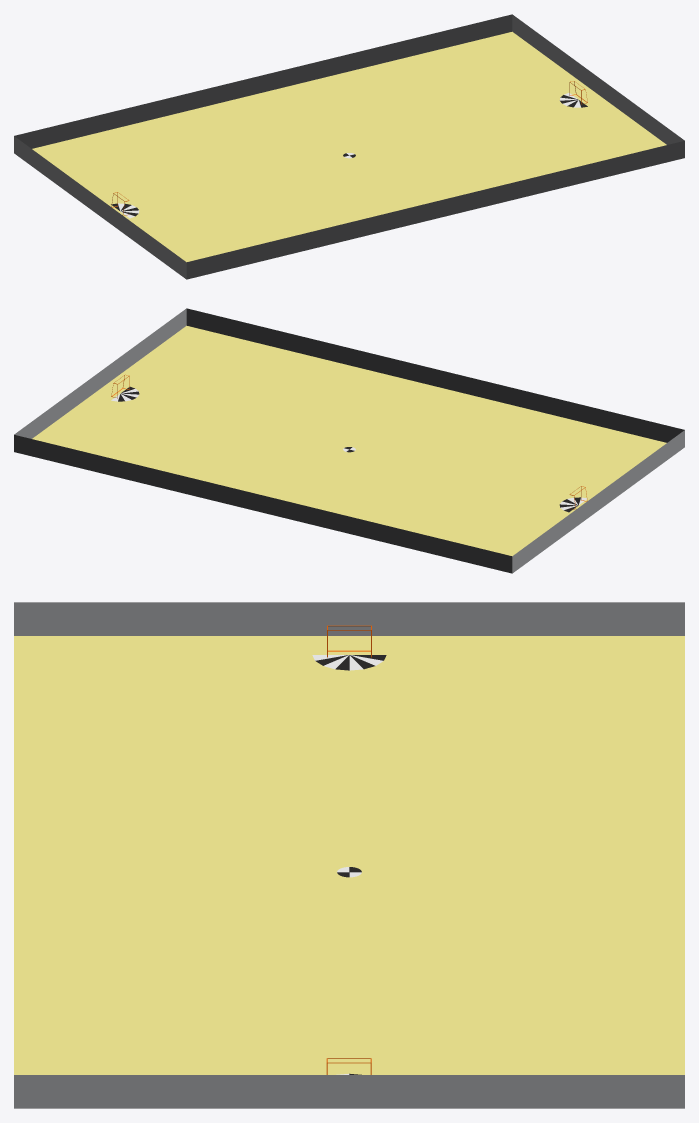
Rendered from rink.glb.
The picture shows the model from 3 angles, top to bottom: view 1: azimuth 30°, elevation 25°; view 2: azimuth 150°, elevation 25°; view 3: azimuth 270°, elevation 25°; orthographic projection. The views are drawn at different scales.
Visible parts, largest first — view 1: rink-floor, rink-wall, rink-wall-1, rink-wall-2; view 2: rink-floor, rink-wall, rink-wall-1, rink-wall-2; view 3: rink-floor, rink-wall-2, rink-wall-1, rink-goal-protractor.
Boxes of the visible parts, x1=… form: rink-floor: x1=32, y1=31, x2=666, y2=262; rink-wall: x1=14, y1=14, x2=684, y2=279; rink-wall-1: x1=14, y1=136, x2=186, y2=279; rink-wall-2: x1=512, y1=14, x2=684, y2=144; rink-floor: x1=32, y1=325, x2=666, y2=556; rink-wall: x1=14, y1=308, x2=684, y2=573; rink-wall-1: x1=512, y1=430, x2=684, y2=573; rink-wall-2: x1=14, y1=308, x2=186, y2=438; rink-floor: x1=14, y1=636, x2=684, y2=1074; rink-wall-2: x1=14, y1=1075, x2=684, y2=1108; rink-wall-1: x1=14, y1=602, x2=684, y2=635; rink-goal-protractor: x1=312, y1=655, x2=386, y2=670.
Size of the model in its own units: 45 by 1.5 by 27.
